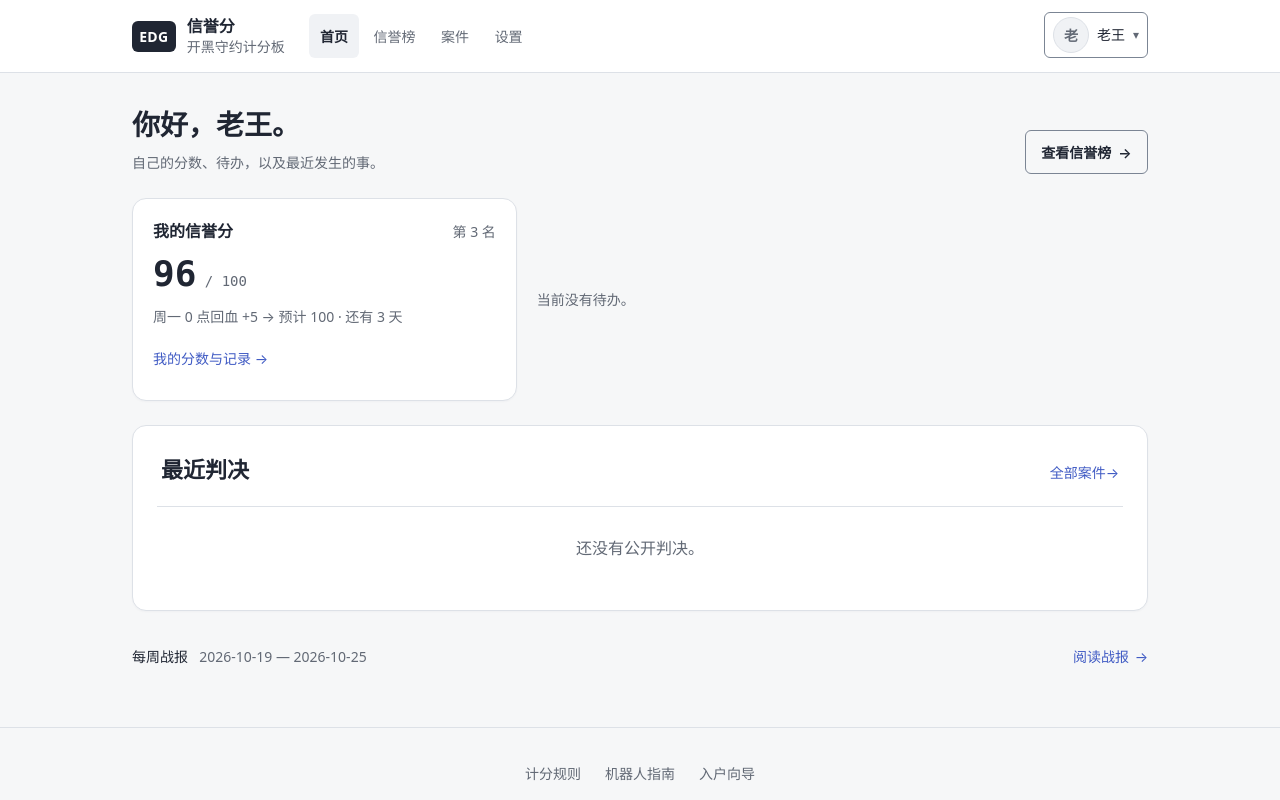
App — separated overview and board › signed in: no welcome card, and the 段位 only on my own row
Expected: the heading "最近判决" is shown, [161,454,249,484]
Click the link "信誉榜": click(394, 36) [374,27,416,46]
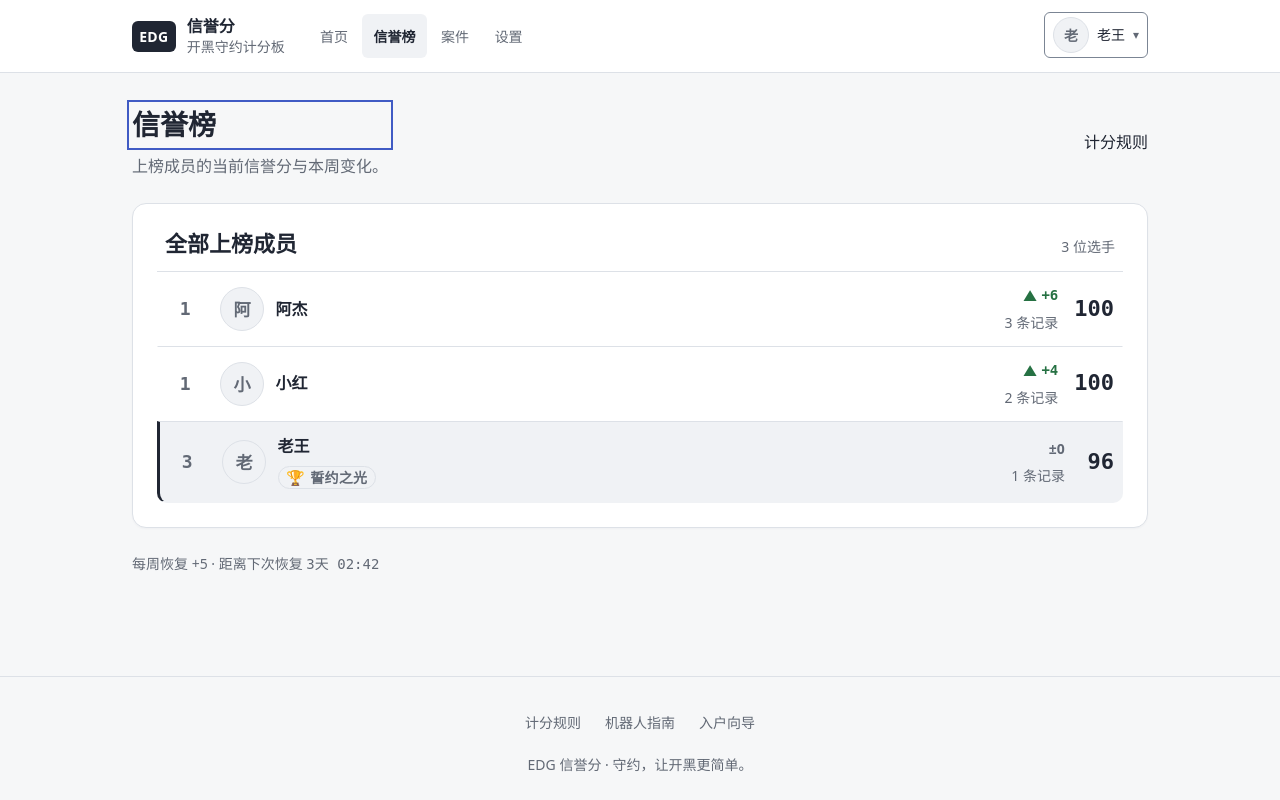
Expected: the heading "全部上榜成员" is shown, [165,228,297,259]
Expected: the number of elements with class "tier-badge" is 1, [278,466,376,489]
